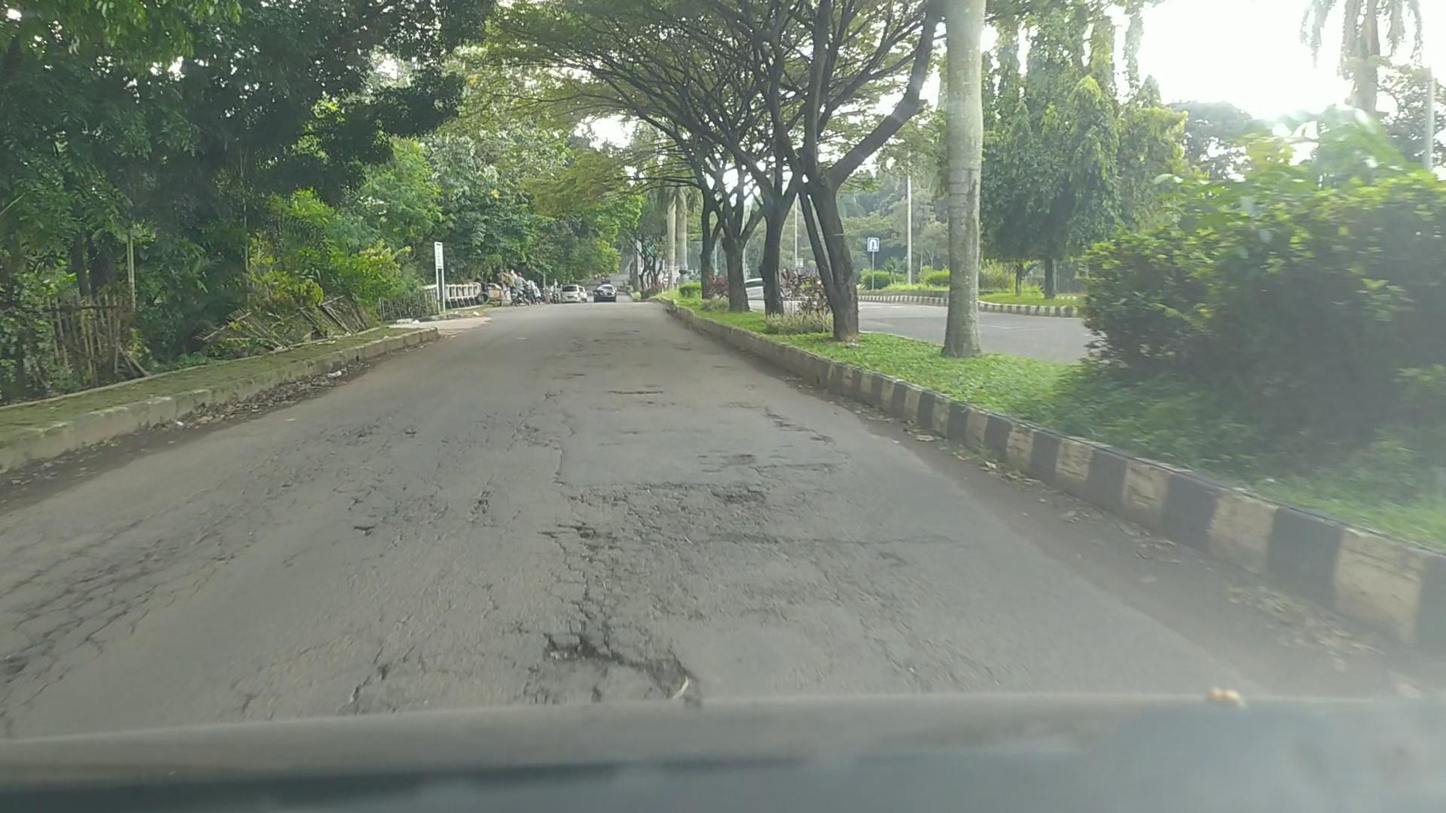pothole: (532, 635, 705, 701)
